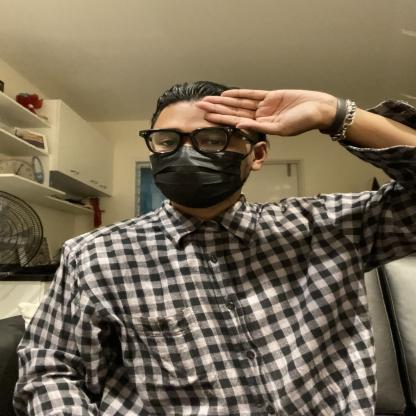Sick: (107, 65, 378, 177)
